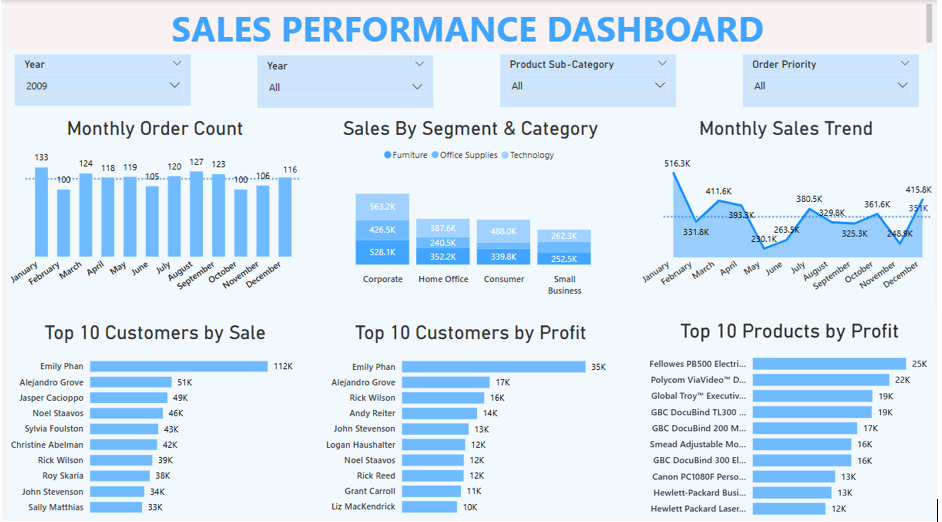

Layout of this report page (visuals, bound fields, positions):
{"tool":"powerbi","page":{"name":"Sales Performance Dashboard","canvas":[1280,720],"ordinal":0},"visuals":[{"type":"textbox","box":[0,0,1280,68.6],"z":1000},{"type":"slicer","fields":{"Values":["Orders.Order Date.Variation.Date Hierarchy.Year"]},"box":[12.1,74.7,242.3,70.7],"z":2000},{"type":"slicer","fields":{"Values":["Orders.Product Sub-Category"]},"box":[681,74.7,242.3,72.7],"z":3000},{"type":"slicer","fields":{"Values":["Orders.Order Priority"]},"box":[1015.5,74.7,242.3,72.7],"z":4000},{"type":"clusteredColumnChart","title":"Monthly Order Count","fields":{"Category":["Orders.Order Date.Variation.Date Hierarchy.Month"],"Y":["Orders.Order ID"]},"box":[0,161.4,411.4,254.3],"z":5000},{"type":"columnChart","title":"Sales By Segment & Category","fields":{"Y":["Orders.Sales"],"Category":["Orders.Customer Segment"],"Series":["Orders.Product Category"]},"box":[434.3,161.4,411.4,254.3],"z":6000},{"type":"areaChart","title":"Monthly Sales Trend","fields":{"Category":["Orders.Order Date.Variation.Date Hierarchy.Month"],"Y":["Orders.Sales"]},"box":[868.6,161.4,411.4,254.3],"z":7000},{"type":"clusteredBarChart","title":"Top 10 Customers by Sale","fields":{"Category":["Orders.Customer Name"],"Y":["Orders.Sales"]},"box":[0,442.9,411.4,277.1],"z":8000},{"type":"clusteredBarChart","title":"Top 10 Customers by Profit","fields":{"Category":["Orders.Customer Name"],"Y":["Orders.Profit"]},"box":[434.3,442.9,411.4,277.1],"z":9000},{"type":"clusteredBarChart","title":"Top 10 Products by Profit","fields":{"Y":["Orders.Profit"],"Category":["Orders.Product Name"]},"box":[868.6,442.9,411.4,277.1],"z":10000},{"type":"slicer","fields":{"Values":["Orders.Order Date.Variation.Date Hierarchy.Year"]},"box":[346.7,76,242,72],"z":11000}]}

Visuals, with their boxes in screenshot pixels (x1, y1, x2, y2), scaled from the page's 1280x720 canvas onto the 942x522 screenshot:
textbox: bbox=(0, 0, 941, 50)
slicer - Orders.Order Date.Variation.Date Hierarchy.Year: bbox=(9, 54, 187, 105)
slicer - Orders.Product Sub-Category: bbox=(501, 54, 679, 107)
slicer - Orders.Order Priority: bbox=(747, 54, 926, 107)
"Monthly Order Count" clusteredColumnChart: bbox=(0, 117, 303, 301)
"Sales By Segment & Category" columnChart: bbox=(320, 117, 622, 301)
"Monthly Sales Trend" areaChart: bbox=(639, 117, 941, 301)
"Top 10 Customers by Sale" clusteredBarChart: bbox=(0, 321, 303, 521)
"Top 10 Customers by Profit" clusteredBarChart: bbox=(320, 321, 622, 521)
"Top 10 Products by Profit" clusteredBarChart: bbox=(639, 321, 941, 521)
slicer - Orders.Order Date.Variation.Date Hierarchy.Year: bbox=(255, 55, 433, 107)
